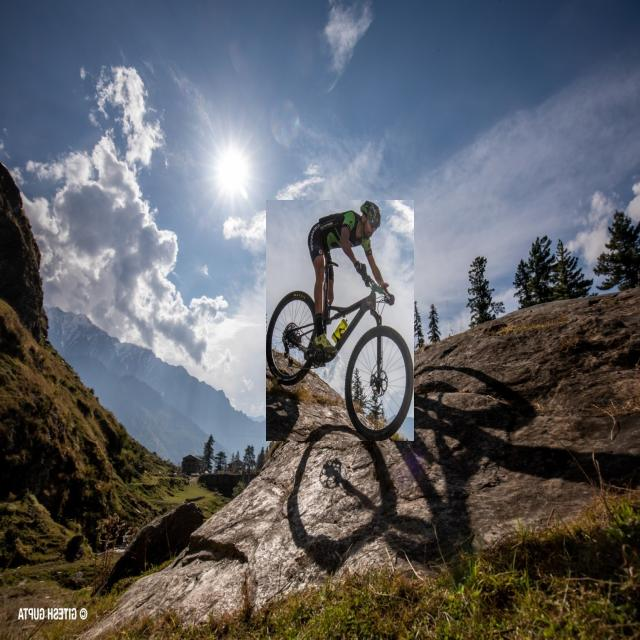bicycle: (266, 200, 414, 441)
